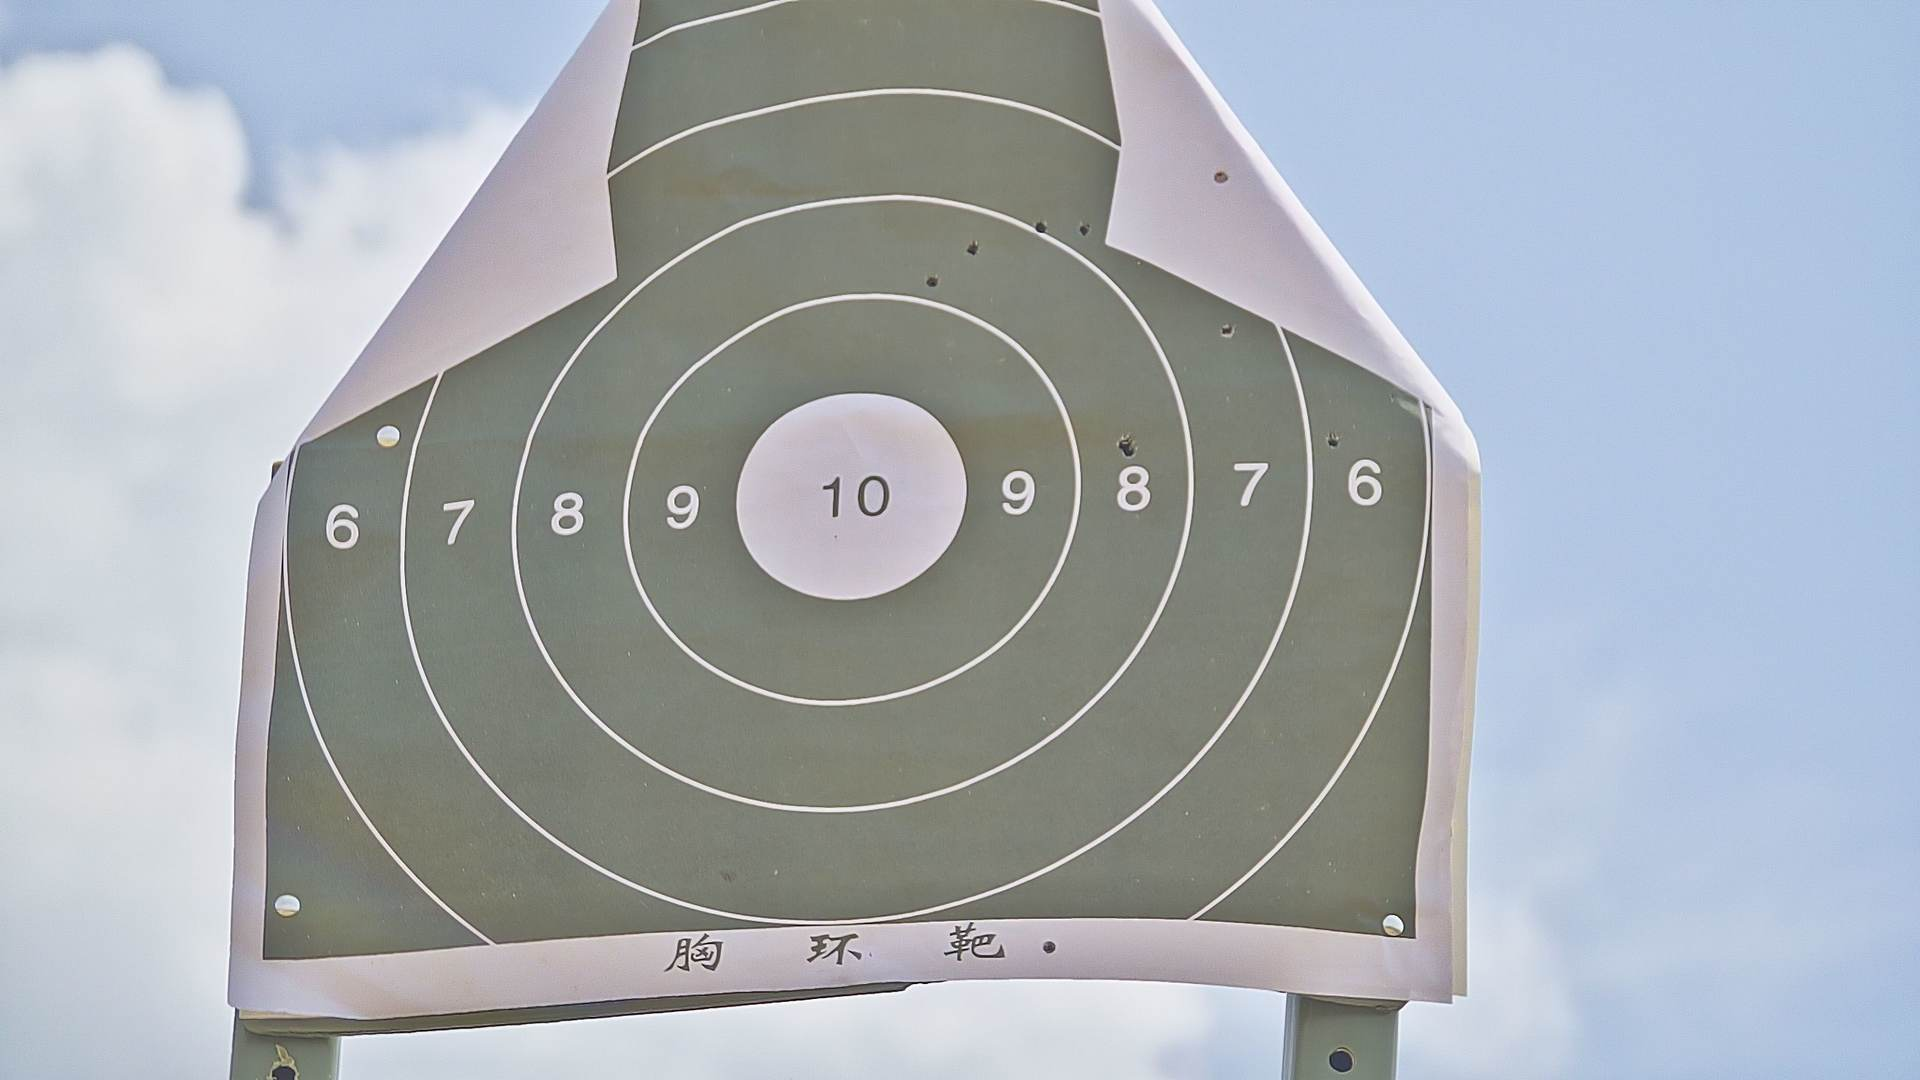hole: (1116, 434, 1130, 448), (1221, 323, 1234, 338), (1124, 443, 1137, 458), (1042, 940, 1056, 953), (967, 241, 980, 255), (1079, 222, 1092, 235), (1327, 434, 1338, 447), (924, 274, 939, 285), (1036, 219, 1048, 231)
target: (261, 9, 1422, 942)
ten: (735, 389, 971, 607)
